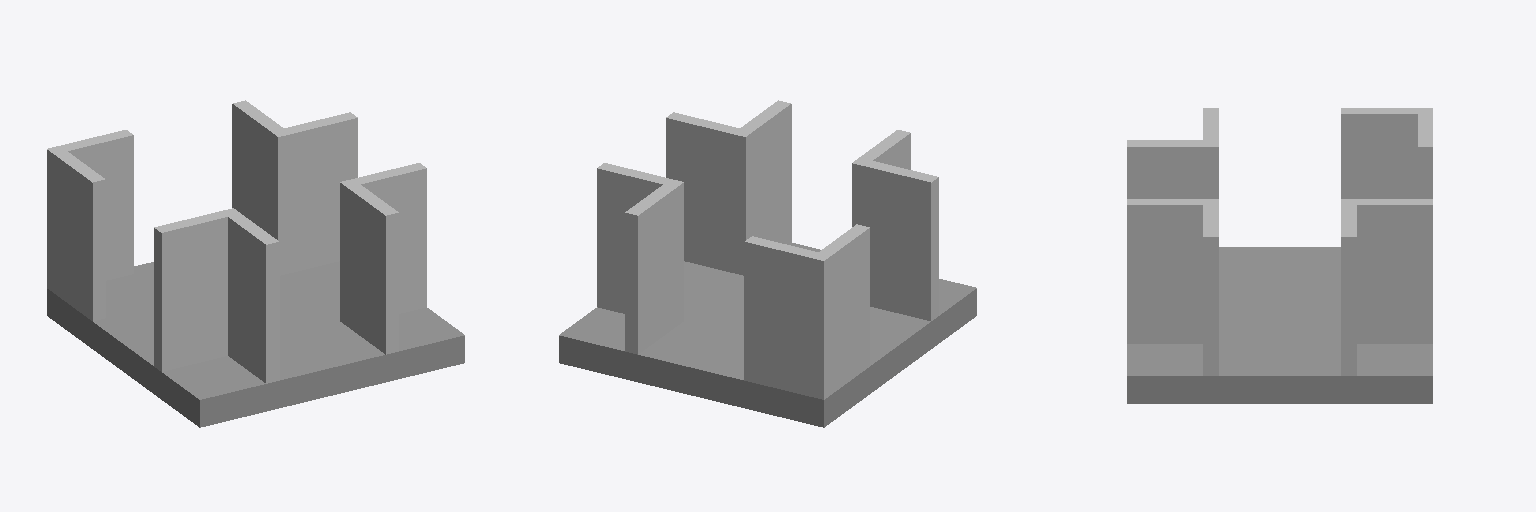
File: hybrid-intersection-3_1.obj
The picture shows the model from 3 angles: view 1: azimuth 30°, elevation 25°; view 2: azimuth 150°, elevation 25°; view 3: azimuth 270°, elevation 25°; orthographic projection.
Parts seen in each view (by area): view 1: Cube, Cube.008_Cube.011, Cube.001, Cube.006_Cube.002, Cube.004, Cube.002_Cube.010, Cube.005, Cube.007_Cube.008, Cube.003; view 2: Cube, Cube.008_Cube.011, Cube.003, Cube.007_Cube.008, Cube.005, Cube.006_Cube.002, Cube.004, Cube.001, Cube.002_Cube.010; view 3: Cube, Cube.005, Cube.004, Cube.006_Cube.002, Cube.002_Cube.010, Cube.007_Cube.008, Cube.001, Cube.008_Cube.011, Cube.003.
Boxes of the visible parts, <box> form: Cube: <box>47,261,464,427</box>; Cube.008_Cube.011: <box>154,208,235,371</box>; Cube.001: <box>271,112,357,274</box>; Cube.006_Cube.002: <box>47,146,105,320</box>; Cube.004: <box>340,179,398,354</box>; Cube.002_Cube.010: <box>222,209,279,383</box>; Cube.005: <box>232,100,291,275</box>; Cube.007_Cube.008: <box>340,163,426,325</box>; Cube.003: <box>47,130,133,292</box>; Cube: <box>559,243,976,427</box>; Cube.008_Cube.011: <box>852,161,938,320</box>; Cube.003: <box>744,236,831,399</box>; Cube.007_Cube.008: <box>666,112,752,275</box>; Cube.005: <box>625,179,683,354</box>; Cube.006_Cube.002: <box>811,224,869,399</box>; Cube.004: <box>732,100,791,274</box>; Cube.001: <box>597,163,683,320</box>; Cube.002_Cube.010: <box>853,130,910,169</box>; Cube: <box>1127,247,1432,403</box>; Cube.005: <box>1342,199,1432,343</box>; Cube.004: <box>1127,199,1214,343</box>; Cube.006_Cube.002: <box>1341,108,1432,198</box>; Cube.002_Cube.010: <box>1127,140,1218,198</box>; Cube.007_Cube.008: <box>1203,199,1218,375</box>; Cube.001: <box>1341,199,1356,375</box>; Cube.008_Cube.011: <box>1203,108,1218,198</box>; Cube.003: <box>1418,108,1432,198</box>.
Size of the model in its own units: 10 by 6 by 10.